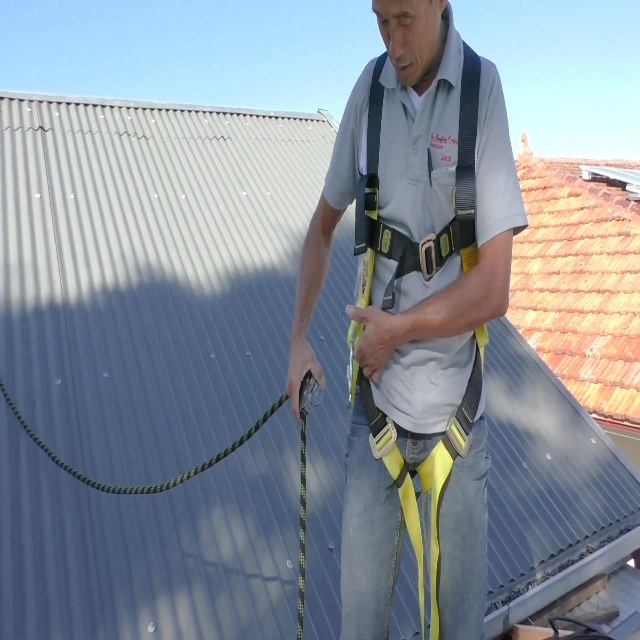Arnes_seguridad: (340, 42, 488, 640)
